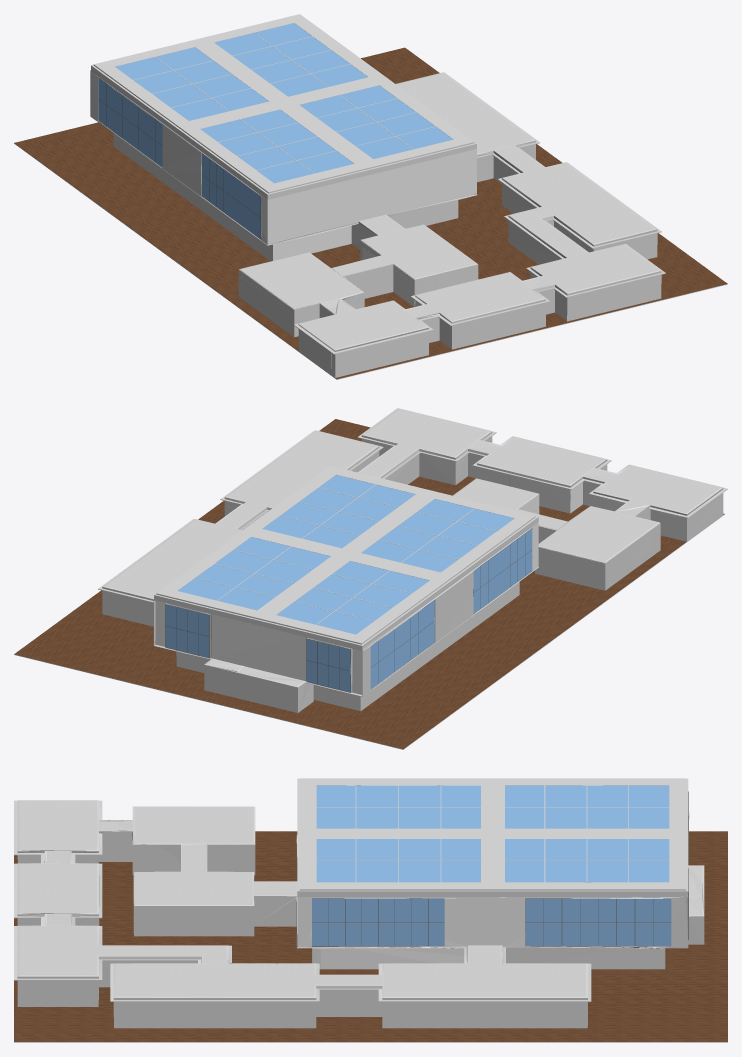
File: Building.fbx
3 renders of one model, top to bottom at view 1: azimuth 30°, elevation 25°; view 2: azimuth 150°, elevation 25°; view 3: azimuth 270°, elevation 25°, orthographic. The views are drawn at different scales.
Visible parts, largest first — view 1: Sketchup, G-__555672, G-__555618, G-__555564; view 2: Sketchup, G-__555672, G-__555609, G-__555618, G-__555564; view 3: Sketchup, G-__555672, G-__555663, G-__555591.
Boxes of the visible parts, <box> form: Sketchup: <box>14,14,727,379</box>; G-__555672: <box>114,22,453,183</box>; G-__555618: <box>98,77,162,167</box>; G-__555564: <box>202,153,261,239</box>; Sketchup: <box>14,408,727,749</box>; G-__555672: <box>177,474,514,634</box>; G-__555609: <box>165,604,350,692</box>; G-__555618: <box>370,600,434,688</box>; G-__555564: <box>473,528,532,613</box>; Sketchup: <box>14,778,727,1042</box>; G-__555672: <box>316,785,669,882</box>; G-__555663: <box>525,898,671,946</box>; G-__555591: <box>312,898,444,946</box>.
Size of the model in its own units: 64.81 by 12.3 by 91.99.
29 materials, 13 textured.
